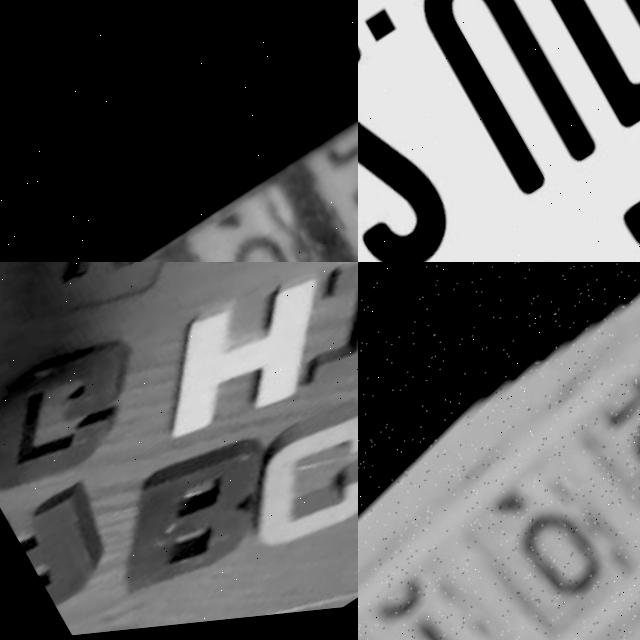0: (474, 475, 639, 640), (210, 221, 320, 262)
1: (379, 585, 517, 640)
2: (358, 20, 470, 262)
4: (327, 150, 358, 262)
6: (591, 375, 640, 558)
B: (83, 415, 304, 623)
C: (226, 387, 358, 577)
D: (496, 0, 640, 152)
G: (0, 314, 169, 521)
H: (129, 262, 358, 472)
I: (273, 262, 358, 424)
M: (0, 262, 225, 356)
U: (399, 0, 604, 218)
